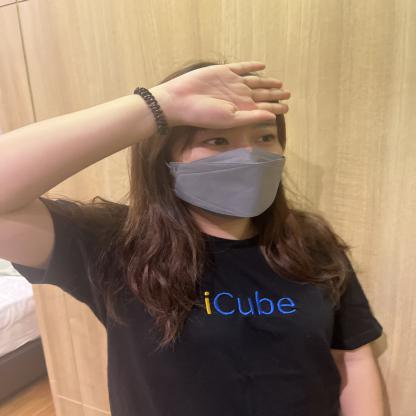Sick: (55, 34, 328, 151)
